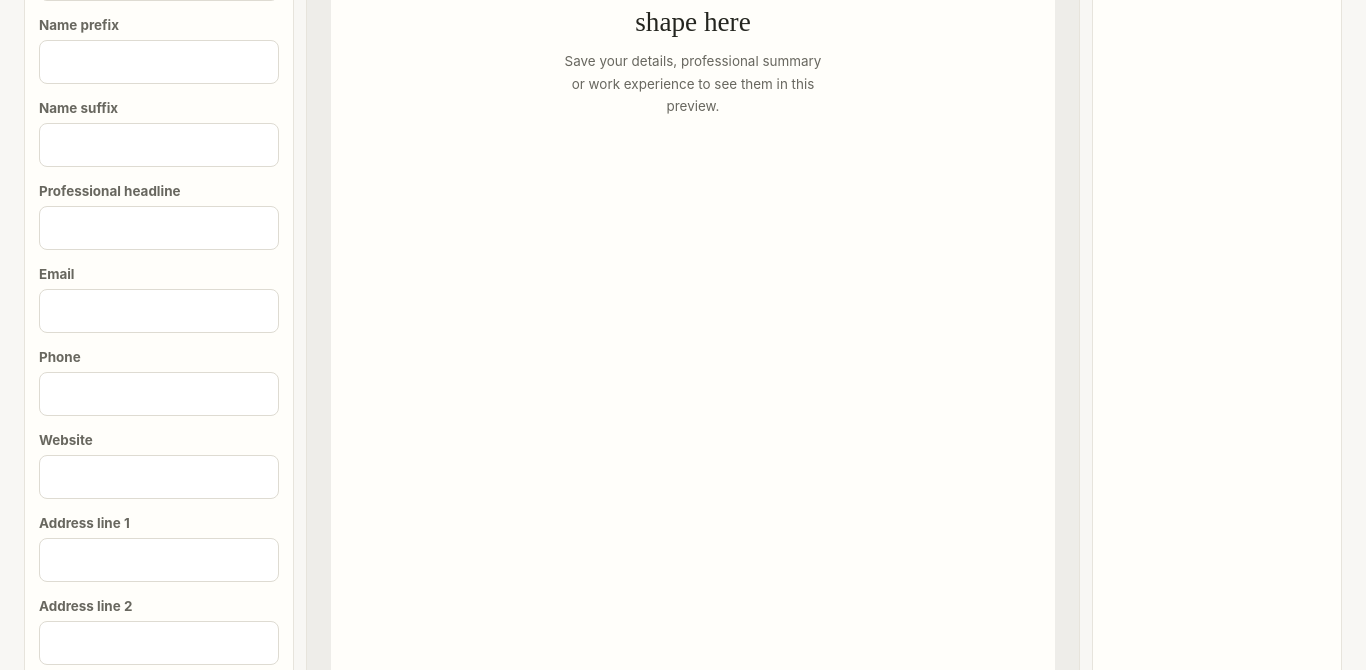
Test: CVDocumentPage › reports field-level errors without mutating the active document
(page scrolled)
Type "bad-email" into the field labelled "Email" at (159, 311), box [39,289,279,333]
(page scrolled)
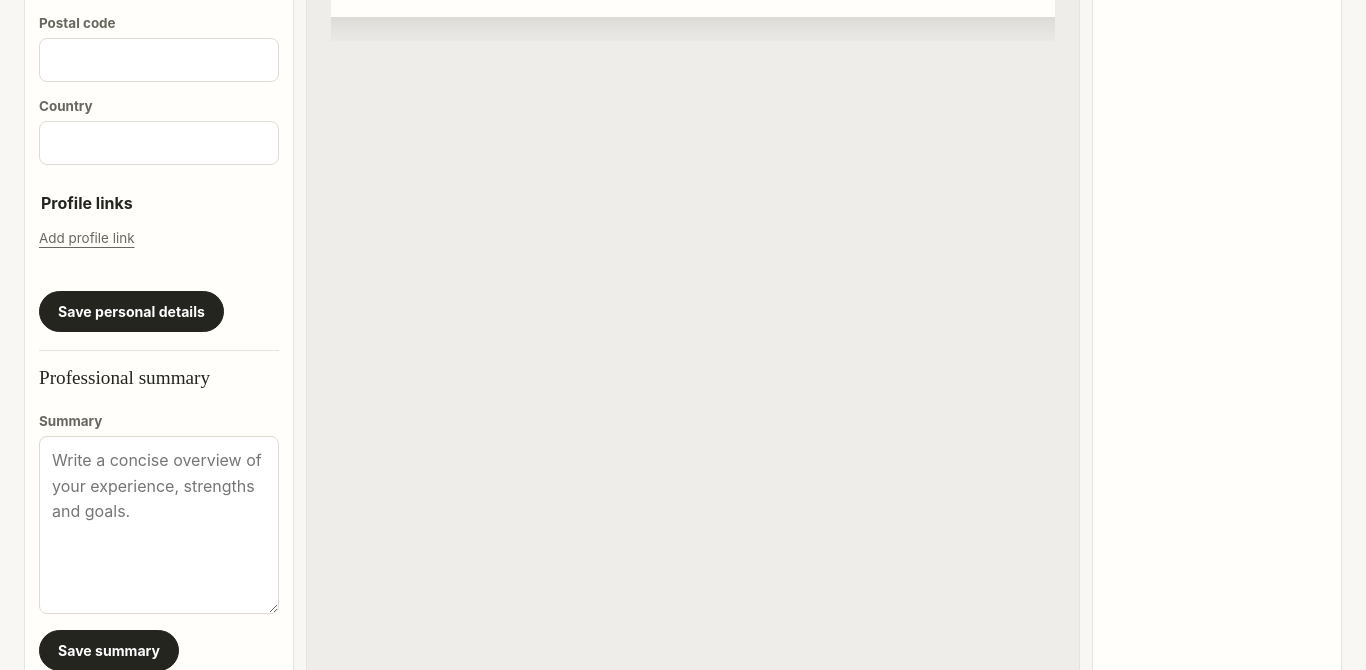
Click the button "Save personal details" at (131, 312), box [39,291,224,332]
(page scrolled)
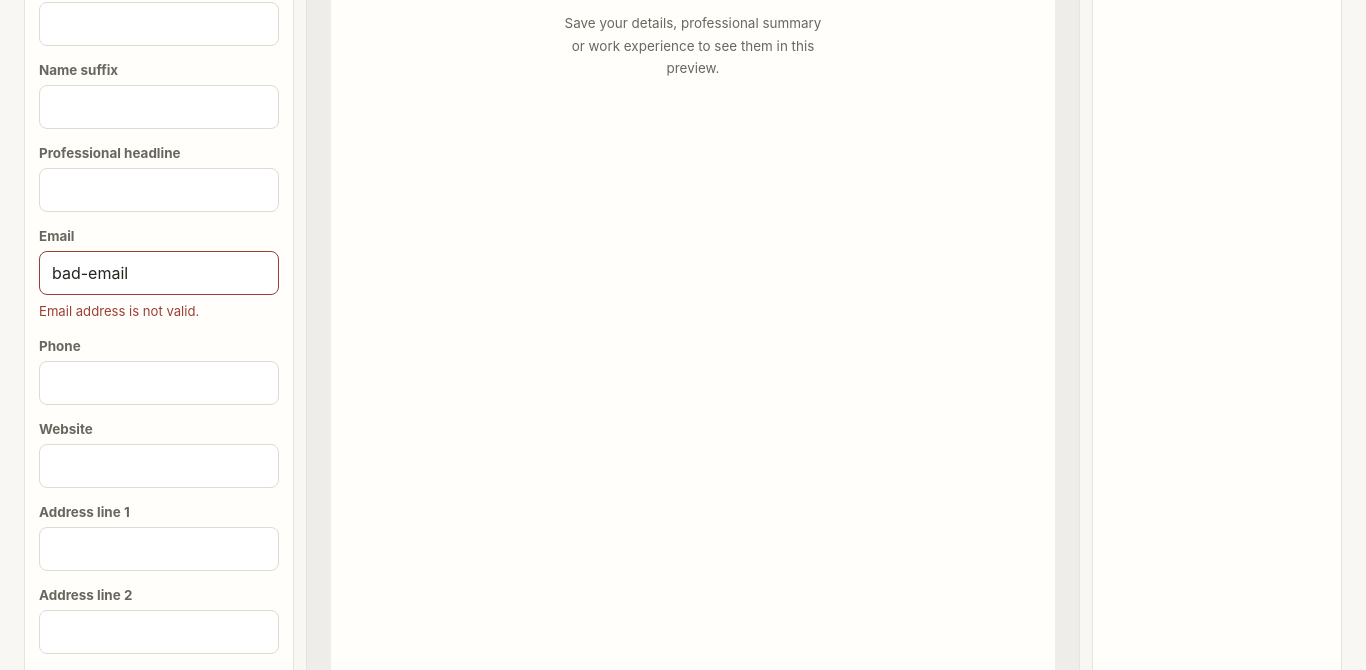
Check: the message reads "Email address is not valid.", box [39,303,199,319]
